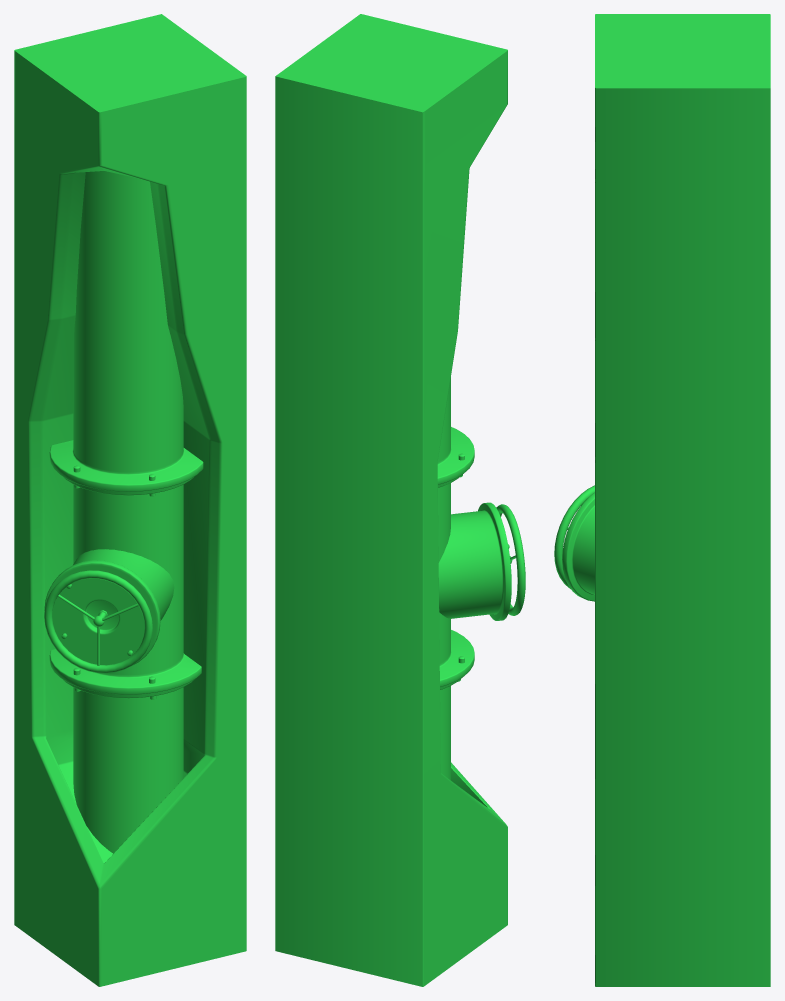
Rendered from Column03.fbx.
3 renders of one model, left to right at view 1: azimuth 30°, elevation 25°; view 2: azimuth 150°, elevation 25°; view 3: azimuth 270°, elevation 25°, orthographic. The views are drawn at different scales.
Visible parts, largest first — view 1: SM_Column03; view 2: SM_Column03; view 3: SM_Column03.
Boxes of the visible parts, x1=… form: SM_Column03: x1=14, y1=14, x2=246, y2=986; SM_Column03: x1=275, y1=14, x2=525, y2=986; SM_Column03: x1=554, y1=14, x2=770, y2=986.
Bounding box in the file's own units: 65.89 × 300 × 65.47.
